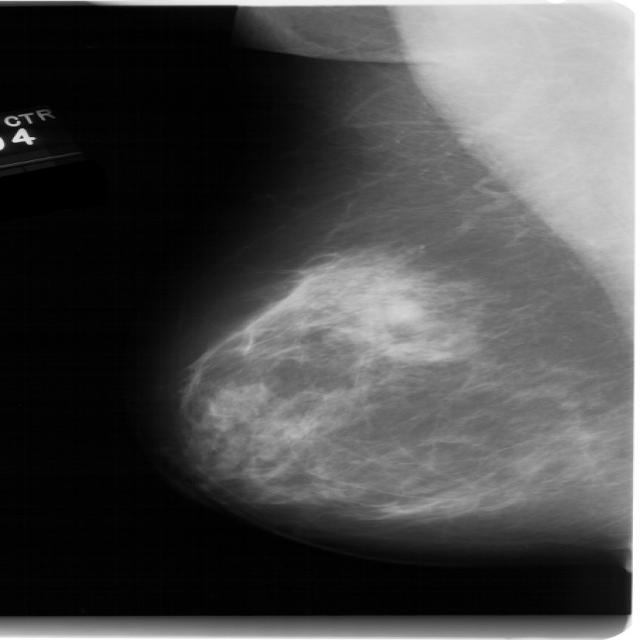tumour: (383, 297, 424, 320)
